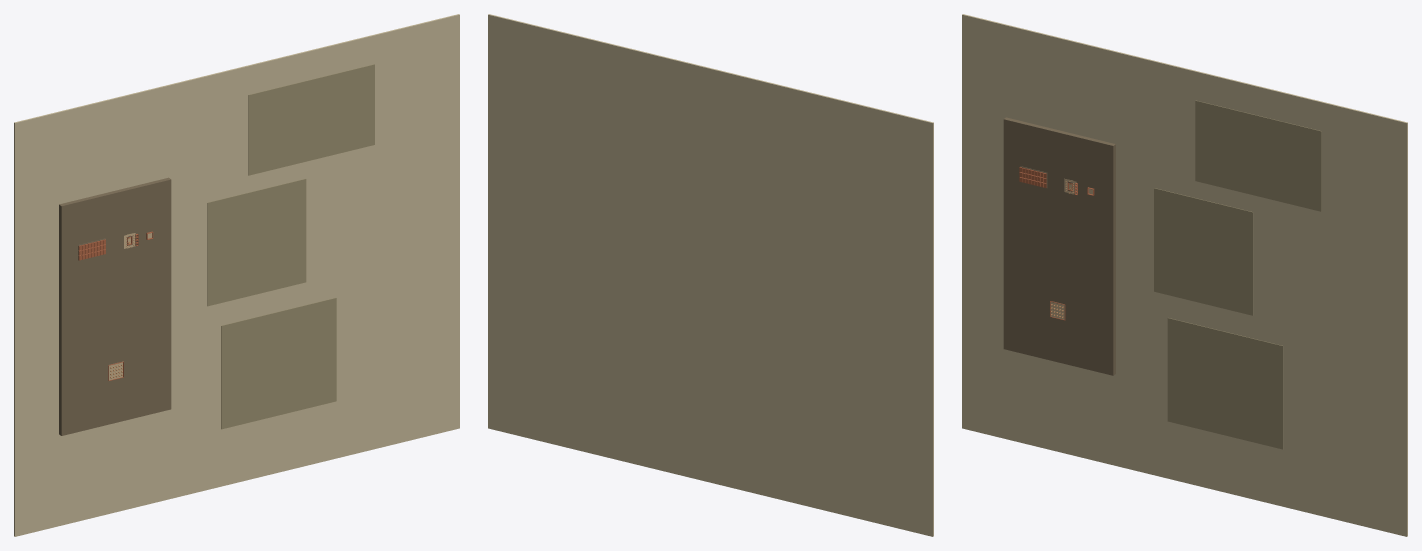
Rendered from mohenjo-daro.obj.
3 views of the same model, side by side, from view 1: azimuth 30°, elevation 25°; view 2: azimuth 150°, elevation 25°; view 3: azimuth 330°, elevation 25° (orthographic).
Visible parts, largest first — view 1: ground_0, western_1, hr_149, vs_148, dk_150; view 2: ground_0; view 3: ground_0, western_1, hr_149, vs_148, dk_150.
Part boxes in pixels (x1,y1,x2,y2): ground_0: (14, 14, 459, 536); western_1: (59, 177, 171, 435); hr_149: (221, 298, 336, 429); vs_148: (207, 178, 306, 306); dk_150: (248, 64, 374, 175); ground_0: (488, 14, 933, 536); ground_0: (962, 14, 1407, 536); western_1: (1003, 117, 1115, 375); hr_149: (1167, 318, 1283, 449); vs_148: (1154, 188, 1253, 315); dk_150: (1195, 100, 1321, 211).
Size of the model in its own units: 810 by 720 by 16.9.
